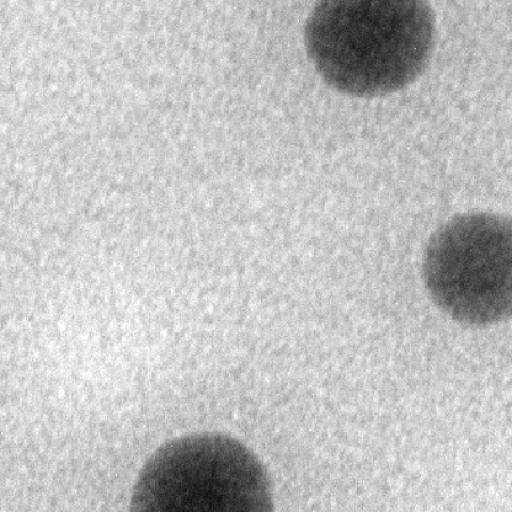Nanoparticles: (304, 0, 438, 96), (128, 434, 276, 512), (421, 208, 512, 326)
